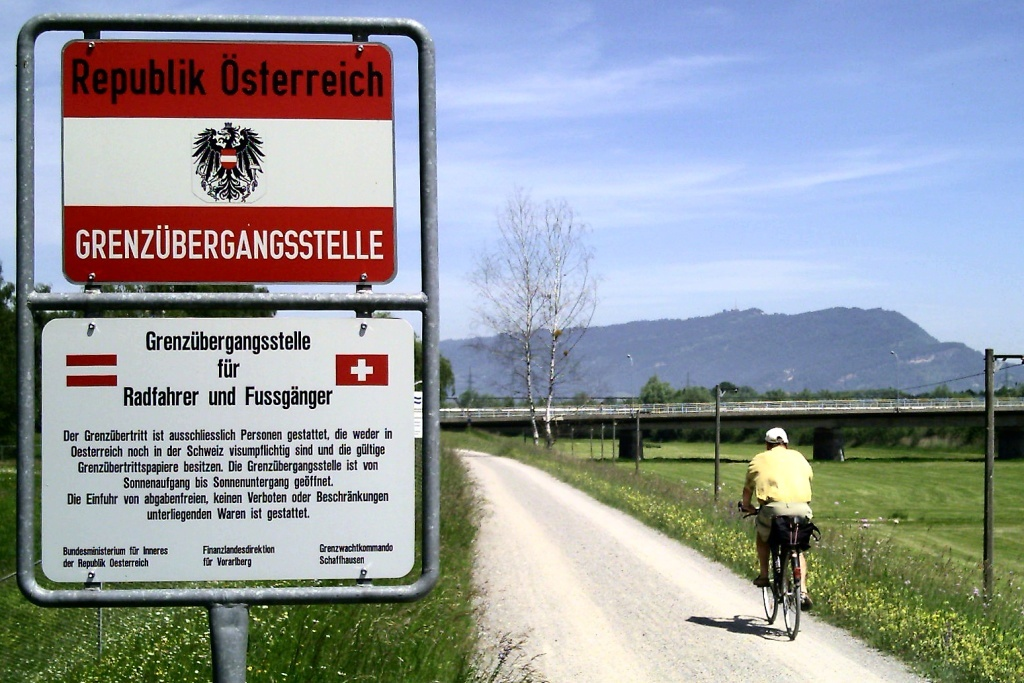Bike_away: (734, 497, 814, 645)
